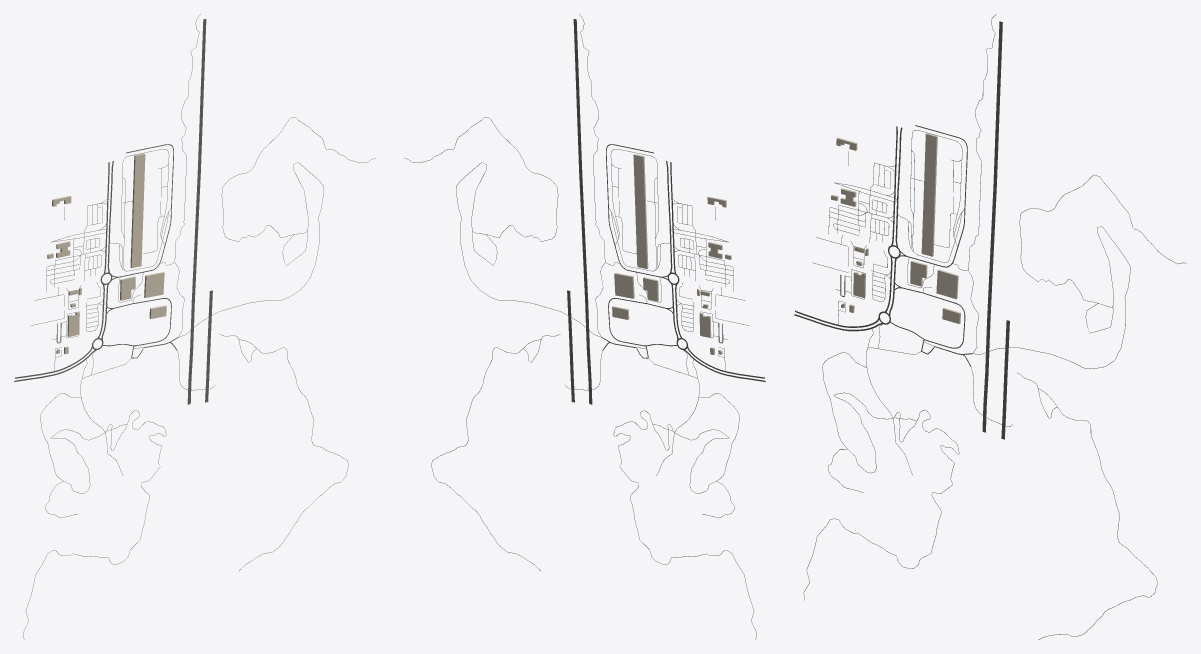
File: historic-palestine-08_26_3496_3200.glb
3 views of the same model, side by side, from view 1: azimuth 30°, elevation 25°; view 2: azimuth 150°, elevation 25°; view 3: azimuth 330°, elevation 25° (orthographic). The views are drawn at different scales.
Parts seen in each view (by area): view 1: Building_, Road כביש חוצה ישראל.006, Road .009; view 2: Building_, Road כביש חוצה ישראל.006, Road .009; view 3: Building_, Road כביש חוצה ישראל.006, Road .009, Building_.013.
Boxes of the visible parts, x1,y1,x2,y2 form: Building_: [130, 153, 145, 268]; Road כביש חוצה ישראל.006: [191, 19, 206, 300]; Road .009: [23, 410, 166, 639]; Building_: [633, 154, 648, 268]; Road כביש חוצה ישראל.006: [573, 19, 588, 300]; Road .009: [613, 410, 756, 639]; Building_: [921, 133, 937, 256]; Road כביש חוצה ישראל.006: [987, 21, 1002, 321]; Road .009: [803, 392, 959, 600]; Building_.013: [936, 269, 958, 299].
Size of the model in its own units: 1380 by 2129 by 8.7.
